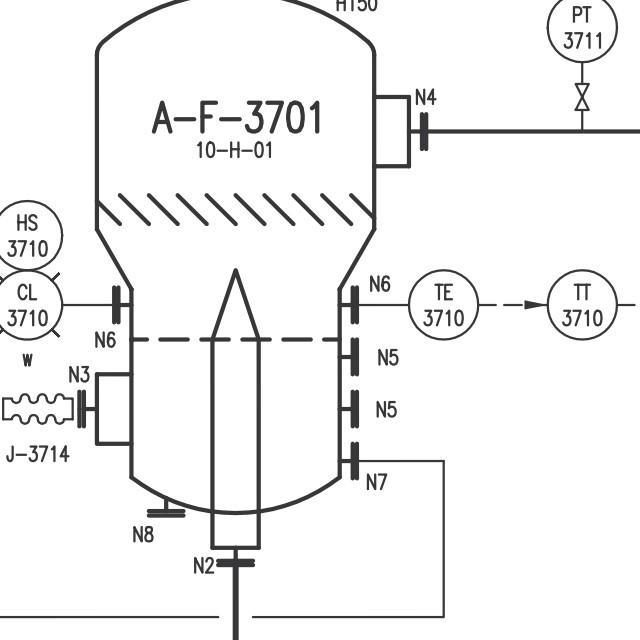A2: (86, 0, 417, 553)
EJ: (0, 387, 81, 436)
GV: (572, 76, 595, 114)
